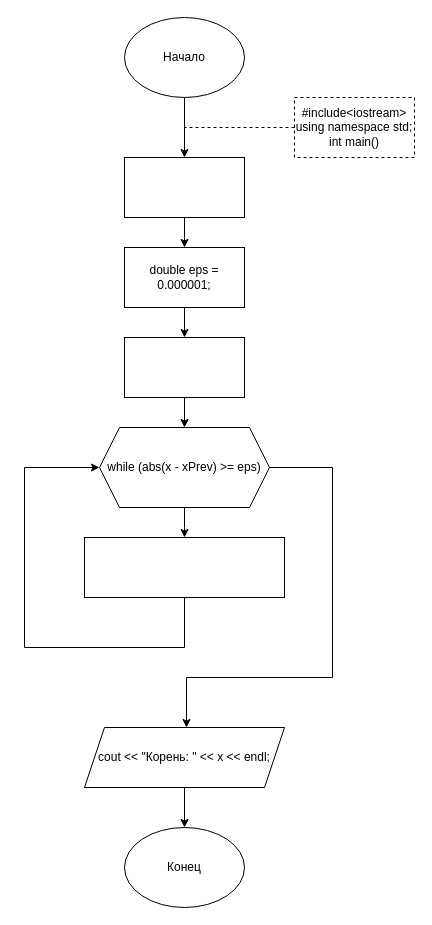
Some shapes in this 432 by 925 pixel diagram are drawn without their labels. Each missing label, with the centre of its shape:
float x, xPrev;: (x=184, y=187)
x = 2; xPrev = 0;: (x=184, y=367)
xPrev = x; x = (xPrev - (pow(xPrev, 3) - xPrev - 1) / (3 * pow(xPrev, 2) - 1));: (x=184, y=567)
